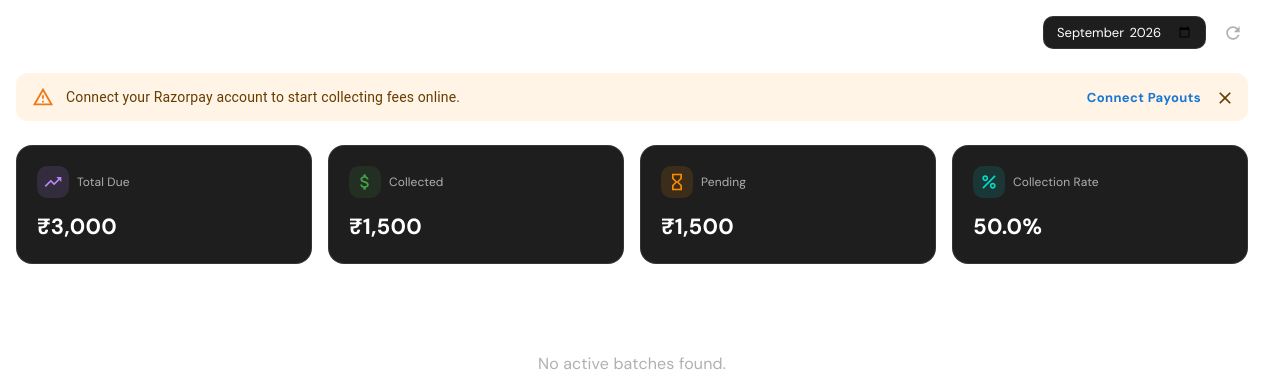
Test: FeesPage — Connect Payouts banner › dismissing the banner hides it
The width and height of the screenshot is (1265, 387).
Expected: the text "Connect your Razorpay account" is shown, [66, 89, 460, 105]
Click the button named "close" at (1225, 98), box [1210, 83, 1240, 113]
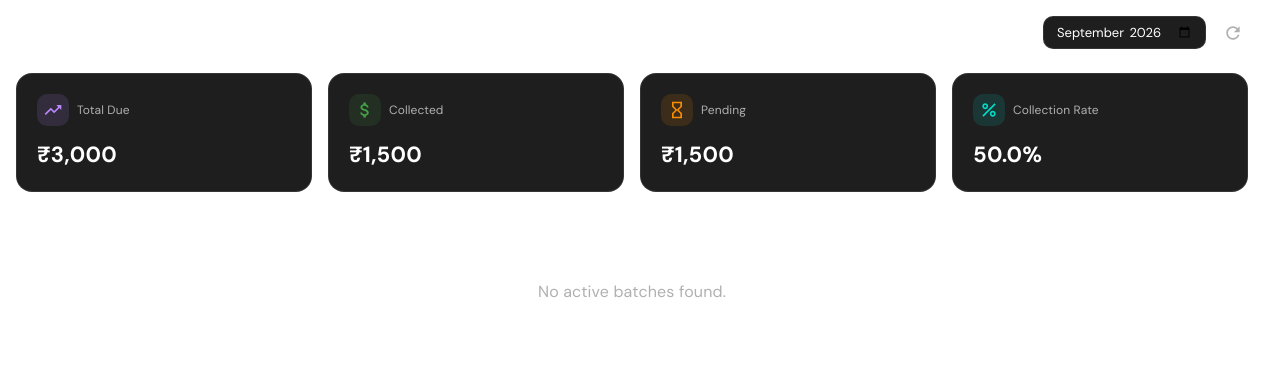
Now the text "Connect your Razorpay account" is gone
